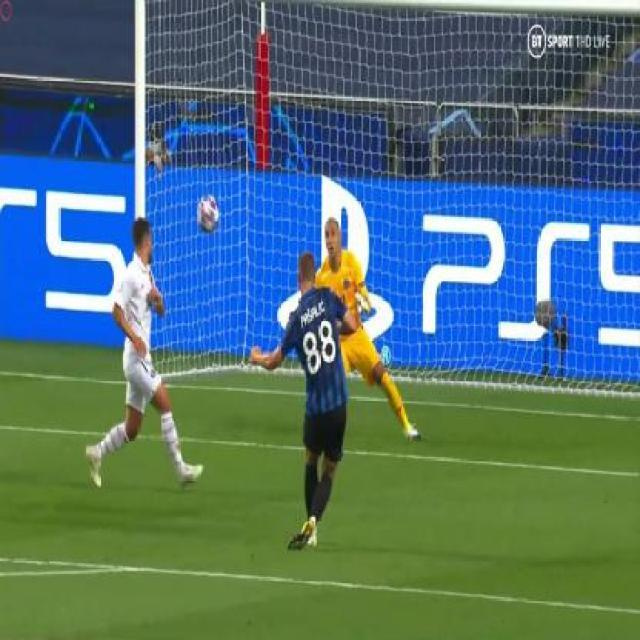ball: (195, 188, 223, 234)
player: (249, 232, 377, 557), (285, 208, 416, 479), (86, 206, 195, 503)
